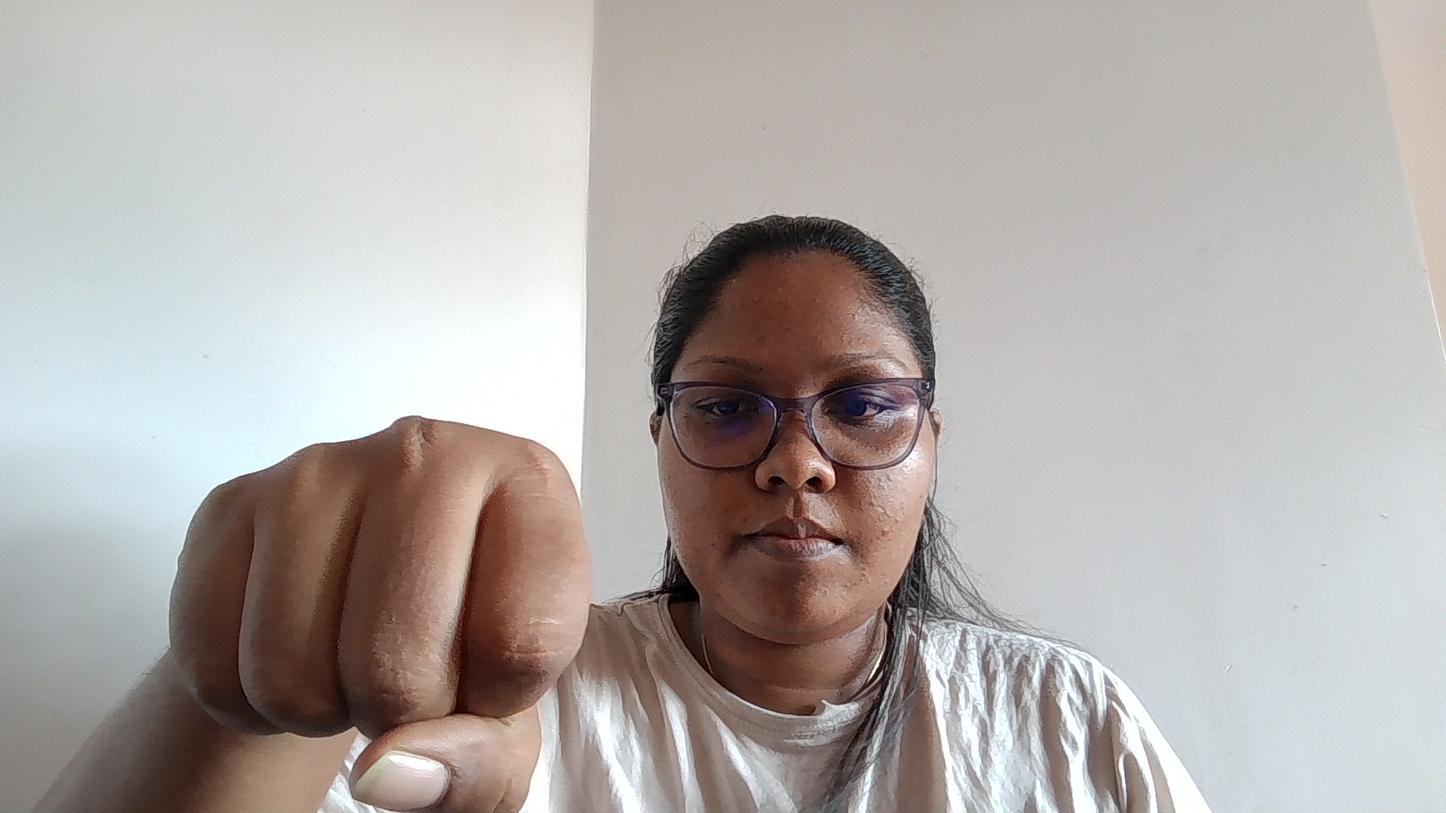Yes: (151, 405, 605, 813)
